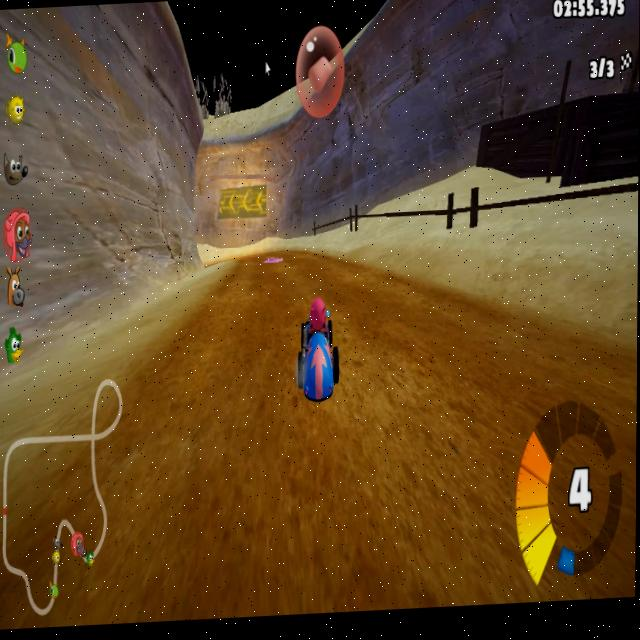obstacle: (262, 254, 288, 271)
player_kart: (297, 294, 336, 396)
track: (0, 432, 634, 633), (331, 289, 637, 441), (138, 347, 295, 457), (199, 291, 296, 348), (338, 252, 411, 304), (290, 253, 334, 294), (296, 400, 334, 441), (230, 253, 256, 294), (257, 272, 292, 296)
